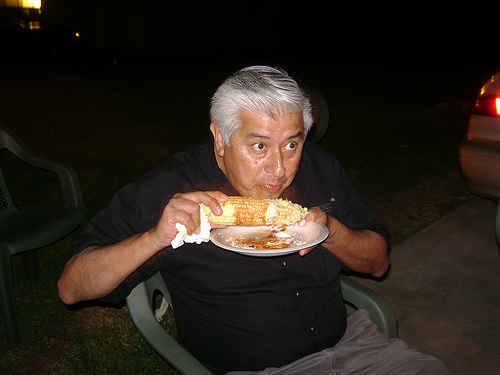corn: (196, 194, 308, 231)
